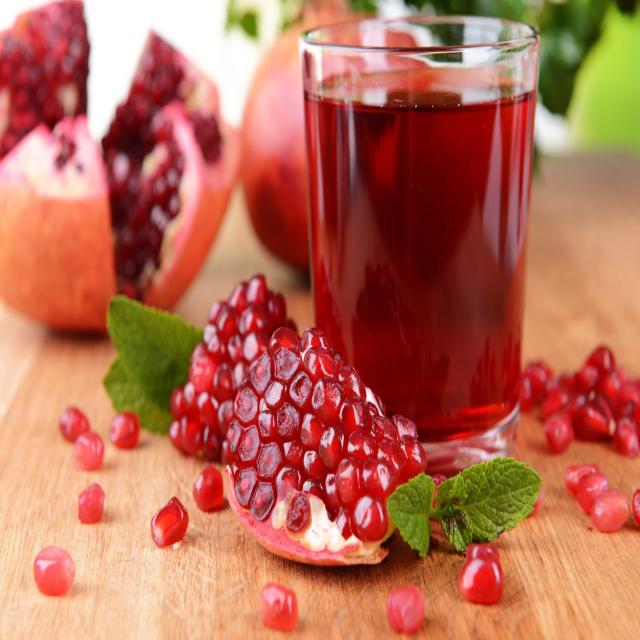Chilli Pepper: (169, 193, 180, 217)
Pomegranate: (228, 326, 425, 562), (102, 32, 240, 309), (169, 275, 296, 464)
